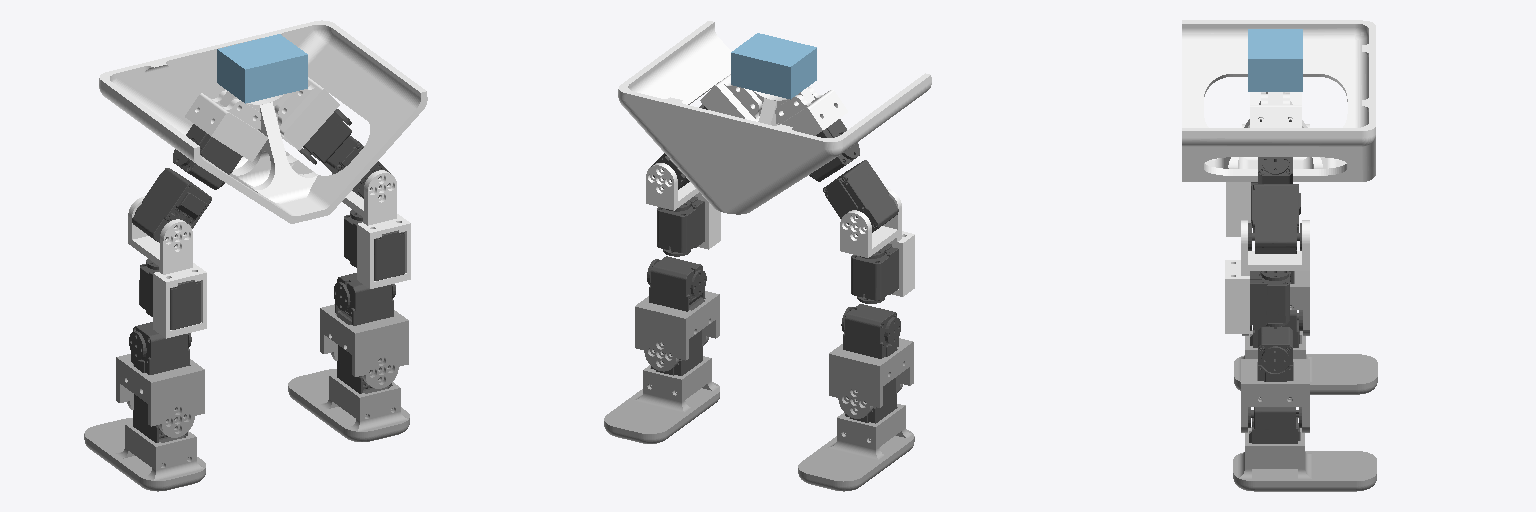
The robot description file, URDF, robot "SundayA1_URDF":
<?xml version="1.0" ?>
<!-- Generated using onshape-to-robot -->
<!-- Onshape https://cad.onshape.com/documents/e24e4ff371fec5e0fbb4a529/w/4a9fa4220522a6f1194ea957/e/8ed7dff1c3905da3bc629e00 -->
<robot name="SundayA1_URDF">
  <!-- Link body -->
  <link name="body">
    <inertial>
      <origin xyz="2.7095e-05 0.0575604 0.0537062" rpy="0 0 0"/>
      <mass value="0.460845"/>
      <inertia ixx="0.000633814" ixy="2.40779e-08" ixz="6.97121e-07" iyy="0.000946769" iyz="2.0973e-05" izz="0.000831012"/>
    </inertial>
    <!-- Part internal_weight_200g -->
    <visual>
      <origin xyz="-0.0244373 0.0729013 0.0940632" rpy="-3.14159 -1.57772e-30 -1.5708"/>
      <geometry>
        <mesh filename="assets/internal_weight_200g.stl"/>
      </geometry>
      <material name="internal_weight_200g_material">
        <color rgba="0.615686 0.811765 0.929412 1"/>
      </material>
    </visual>
    <collision>
      <origin xyz="-0.0244373 0.0729013 0.0940632" rpy="-3.14159 -1.57772e-30 -1.5708"/>
      <geometry>
        <mesh filename="assets/internal_weight_200g.stl"/>
      </geometry>
    </collision>
    <!-- Part sts3215 -->
    <visual>
      <origin xyz="0.153454 0.118361 0.123383" rpy="2.26893 -2.73872e-16 -1.5708"/>
      <geometry>
        <mesh filename="assets/sts3215.stl"/>
      </geometry>
      <material name="sts3215_material">
        <color rgba="0.4 0.4 0.4 1"/>
      </material>
    </visual>
    <collision>
      <origin xyz="0.153454 0.118361 0.123383" rpy="2.26893 -2.73872e-16 -1.5708"/>
      <geometry>
        <mesh filename="assets/sts3215.stl"/>
      </geometry>
    </collision>
    <!-- Part lower_torso -->
    <visual>
      <origin xyz="-7.97973e-17 0.0538513 0.134639" rpy="0 -6.30358e-16 -1.00525e-30"/>
      <geometry>
        <mesh filename="assets/lower_torso.stl"/>
      </geometry>
      <material name="lower_torso_material">
        <color rgba="1 1 1 1"/>
      </material>
    </visual>
    <collision>
      <origin xyz="-7.97973e-17 0.0538513 0.134639" rpy="0 -6.30358e-16 -1.00525e-30"/>
      <geometry>
        <mesh filename="assets/lower_torso.stl"/>
      </geometry>
    </collision>
    <!-- Part leg_foundation1029 -->
    <visual>
      <origin xyz="0.0279977 0.0538513 0.0442201" rpy="2.44346 1.93131e-16 1.5708"/>
      <geometry>
        <mesh filename="assets/leg_foundation1029.stl"/>
      </geometry>
      <material name="leg_foundation1029_material">
        <color rgba="1 1 1 1"/>
      </material>
    </visual>
    <collision>
      <origin xyz="0.0279977 0.0538513 0.0442201" rpy="2.44346 1.93131e-16 1.5708"/>
      <geometry>
        <mesh filename="assets/leg_foundation1029.stl"/>
      </geometry>
    </collision>
    <!-- Part sts3215_2 -->
    <visual>
      <origin xyz="-0.153294 -0.0106587 0.123574" rpy="2.26893 -2.22045e-16 1.5708"/>
      <geometry>
        <mesh filename="assets/sts3215.stl"/>
      </geometry>
      <material name="sts3215_2_material">
        <color rgba="0.4 0.4 0.4 1"/>
      </material>
    </visual>
    <collision>
      <origin xyz="-0.153294 -0.0106587 0.123574" rpy="2.26893 -2.22045e-16 1.5708"/>
      <geometry>
        <mesh filename="assets/sts3215.stl"/>
      </geometry>
    </collision>
    <!-- Part leg_foundation1029_2 -->
    <visual>
      <origin xyz="-0.0279977 0.0538513 0.0442201" rpy="2.44346 -1.0741e-16 -1.5708"/>
      <geometry>
        <mesh filename="assets/leg_foundation1029.stl"/>
      </geometry>
      <material name="leg_foundation1029_2_material">
        <color rgba="1 1 1 1"/>
      </material>
    </visual>
    <collision>
      <origin xyz="-0.0279977 0.0538513 0.0442201" rpy="2.44346 -1.0741e-16 -1.5708"/>
      <geometry>
        <mesh filename="assets/leg_foundation1029.stl"/>
      </geometry>
    </collision>
  </link>
  <!-- Link hip -->
  <link name="hip">
    <inertial>
      <origin xyz="0.00106942 -0.0359263 0.0188233" rpy="0 0 0"/>
      <mass value="0.0762186"/>
      <inertia ixx="2.6454e-05" ixy="2.66827e-07" ixz="2.14125e-09" iyy="1.91185e-05" iyz="-8.07308e-09" izz="3.06014e-05"/>
    </inertial>
    <!-- Part sts3215_3 -->
    <visual>
      <origin xyz="0.14699 -0.04 -0.045685" rpy="1.19441e-16 -1.5708 0"/>
      <geometry>
        <mesh filename="assets/sts3215.stl"/>
      </geometry>
      <material name="sts3215_3_material">
        <color rgba="0.4 0.4 0.4 1"/>
      </material>
    </visual>
    <collision>
      <origin xyz="0.14699 -0.04 -0.045685" rpy="1.19441e-16 -1.5708 0"/>
      <geometry>
        <mesh filename="assets/sts3215.stl"/>
      </geometry>
    </collision>
    <!-- Part hips1016 -->
    <visual>
      <origin xyz="0.016 -1.04083e-17 0.018825" rpy="-1.5708 -1.99996e-30 -1.03617e-29"/>
      <geometry>
        <mesh filename="assets/hips1016.stl"/>
      </geometry>
      <material name="hips1016_material">
        <color rgba="1 1 1 1"/>
      </material>
    </visual>
    <collision>
      <origin xyz="0.016 -1.04083e-17 0.018825" rpy="-1.5708 -1.99996e-30 -1.03617e-29"/>
      <geometry>
        <mesh filename="assets/hips1016.stl"/>
      </geometry>
    </collision>
  </link>
  <!-- Link low_hip -->
  <link name="low_hip">
    <inertial>
      <origin xyz="-0.0417421 -1.66285e-06 0.00770428" rpy="0 0 0"/>
      <mass value="0.0781435"/>
      <inertia ixx="2.36153e-05" ixy="1.72693e-09" ixz="-2.62202e-06" iyy="3.70364e-05" iyz="7.68937e-09" izz="2.44894e-05"/>
    </inertial>
    <!-- Part sts3215_4 -->
    <visual>
      <origin xyz="0.10099 -0.06451 0.008825" rpy="-1.5708 -1.39788e-14 1.5708"/>
      <geometry>
        <mesh filename="assets/sts3215.stl"/>
      </geometry>
      <material name="sts3215_4_material">
        <color rgba="0.4 0.4 0.4 1"/>
      </material>
    </visual>
    <collision>
      <origin xyz="0.10099 -0.06451 0.008825" rpy="-1.5708 -1.39788e-14 1.5708"/>
      <geometry>
        <mesh filename="assets/sts3215.stl"/>
      </geometry>
    </collision>
    <!-- Part thigh1016 -->
    <visual>
      <origin xyz="-0.03 -1.38778e-17 -0.031175" rpy="-3.14159 2.84947e-30 -9.86076e-32"/>
      <geometry>
        <mesh filename="assets/thigh1016.stl"/>
      </geometry>
      <material name="thigh1016_material">
        <color rgba="1 1 1 1"/>
      </material>
    </visual>
    <collision>
      <origin xyz="-0.03 -1.38778e-17 -0.031175" rpy="-3.14159 2.84947e-30 -9.86076e-32"/>
      <geometry>
        <mesh filename="assets/thigh1016.stl"/>
      </geometry>
    </collision>
  </link>
  <!-- Link knee_down -->
  <link name="knee_down">
    <inertial>
      <origin xyz="-0.0107349 3.17927e-18 -0.0263596" rpy="0 0 0"/>
      <mass value="0.0153484"/>
      <inertia ixx="1.08234e-05" ixy="1.20699e-34" ixz="7.91036e-07" iyy="8.20048e-06" iyz="1.16693e-35" izz="4.71676e-06"/>
    </inertial>
    <!-- Part knee_down -->
    <visual>
      <origin xyz="1.38778e-17 0 -0.038" rpy="1.5708 -5.05136e-30 1.4752e-29"/>
      <geometry>
        <mesh filename="assets/knee_down.stl"/>
      </geometry>
      <material name="knee_down_material">
        <color rgba="1 1 1 1"/>
      </material>
    </visual>
    <collision>
      <origin xyz="1.38778e-17 0 -0.038" rpy="1.5708 -5.05136e-30 1.4752e-29"/>
      <geometry>
        <mesh filename="assets/knee_down.stl"/>
      </geometry>
    </collision>
  </link>
  <!-- Link knee -->
  <link name="knee">
    <inertial>
      <origin xyz="-1.70178e-06 0.0140643 0.0179813" rpy="0 0 0"/>
      <mass value="0.0763559"/>
      <inertia ixx="3.08631e-05" ixy="-8.07186e-09" ixz="-2.14134e-09" iyy="2.01146e-05" iyz="-2.62273e-07" izz="2.72821e-05"/>
    </inertial>
    <!-- Part sts3215_5 -->
    <visual>
      <origin xyz="-0.06451 0.01 -0.12794" rpy="2.21867e-31 1.15322e-29 1.87448e-31"/>
      <geometry>
        <mesh filename="assets/sts3215.stl"/>
      </geometry>
      <material name="sts3215_5_material">
        <color rgba="0.4 0.4 0.4 1"/>
      </material>
    </visual>
    <collision>
      <origin xyz="-0.06451 0.01 -0.12794" rpy="2.21867e-31 1.15322e-29 1.87448e-31"/>
      <geometry>
        <mesh filename="assets/sts3215.stl"/>
      </geometry>
    </collision>
    <!-- Part ankle0116 -->
    <visual>
      <origin xyz="-1.38778e-17 0.026159 0.01905" rpy="1.5708 1.15322e-29 1.87448e-31"/>
      <geometry>
        <mesh filename="assets/ankle0116.stl"/>
      </geometry>
      <material name="ankle0116_material">
        <color rgba="0.717647 0.717647 0.717647 1"/>
      </material>
    </visual>
    <collision>
      <origin xyz="-1.38778e-17 0.026159 0.01905" rpy="1.5708 1.15322e-29 1.87448e-31"/>
      <geometry>
        <mesh filename="assets/ankle0116.stl"/>
      </geometry>
    </collision>
  </link>
  <!-- Link sts3215 -->
  <link name="sts3215">
    <inertial>
      <origin xyz="-1.36047e-06 -0.0191896 -0.0135513" rpy="0 0 0"/>
      <mass value="0.0884859"/>
      <inertia ixx="6.29717e-05" ixy="8.86629e-09" ixz="1.79954e-09" iyy="4.02068e-05" iyz="9.70573e-06" izz="3.99134e-05"/>
    </inertial>
    <!-- Part sts3215_6 -->
    <visual>
      <origin xyz="-0.06451 -0.01 0.12794" rpy="-3.14159 6.47828e-30 3.80362e-30"/>
      <geometry>
        <mesh filename="assets/sts3215.stl"/>
      </geometry>
      <material name="sts3215_6_material">
        <color rgba="0.4 0.4 0.4 1"/>
      </material>
    </visual>
    <collision>
      <origin xyz="-0.06451 -0.01 0.12794" rpy="-3.14159 6.47828e-30 3.80362e-30"/>
      <geometry>
        <mesh filename="assets/sts3215.stl"/>
      </geometry>
    </collision>
    <!-- Part foot0116 -->
    <visual>
      <origin xyz="0 -0.05 -0.00305001" rpy="1.5708 -1.5708 0"/>
      <geometry>
        <mesh filename="assets/foot0116.stl"/>
      </geometry>
      <material name="foot0116_material">
        <color rgba="0.717647 0.717647 0.717647 1"/>
      </material>
    </visual>
    <collision>
      <origin xyz="0 -0.05 -0.00305001" rpy="1.5708 -1.5708 0"/>
      <geometry>
        <mesh filename="assets/foot0116.stl"/>
      </geometry>
    </collision>
  </link>
  <!-- Joint from knee to sts3215 -->
  <joint name="right_ankle" type="revolute">
    <origin xyz="0.018825 0.05 0.01905" rpy="-3.14159 -1.5708 0"/>
    <parent link="knee"/>
    <child link="sts3215"/>
    <axis xyz="0 0 1"/>
    <limit effort="1.9" velocity="5" lower="-1.6" upper="1.6"/>
    <joint_properties friction="0.052"/>
  </joint>
  <!-- Joint from knee_down to knee -->
  <joint name="right_knee" type="revolute">
    <origin xyz="4.16334e-17 0.019 -0.059" rpy="-1.5708 -7.00545e-14 -3.14159"/>
    <parent link="knee_down"/>
    <child link="knee"/>
    <axis xyz="0 0 1"/>
    <limit effort="1.9" velocity="5" lower="-1.23" upper="1.6"/>
    <joint_properties friction="0.052"/>
  </joint>
  <!-- Joint from low_hip to knee_down -->
  <joint name="right_hip_yaw" type="revolute">
    <origin xyz="-0.02695 -6.80012e-16 0.018825" rpy="-7.77156e-16 1.5708 0"/>
    <parent link="low_hip"/>
    <child link="knee_down"/>
    <axis xyz="0 0 1"/>
    <limit effort="1.9" velocity="5" lower="-0.785" upper="0.785"/>
    <joint_properties friction="0.052"/>
  </joint>
  <!-- Joint from hip to low_hip -->
  <joint name="right_hip_pitch" type="revolute">
    <origin xyz="0.01905 -0.05 0.018825" rpy="-1.5708 0.698132 1.5708"/>
    <parent link="hip"/>
    <child link="low_hip"/>
    <axis xyz="0 0 1"/>
    <limit effort="1.9" velocity="5" lower="-1.6" upper="1.6"/>
    <joint_properties friction="0.052"/>
  </joint>
  <!-- Joint from body to hip -->
  <joint name="right_hip_roll" type="revolute">
    <origin xyz="0.0618745 0.0538513 0.0334838" rpy="2.26893 -7.32543e-14 -1.5708"/>
    <parent link="body"/>
    <child link="hip"/>
    <axis xyz="0 0 1"/>
    <limit effort="1.9" velocity="5" lower="-1" upper="1"/>
    <joint_properties friction="0.052"/>
  </joint>
  <!-- Link hip_2 -->
  <link name="hip_2">
    <inertial>
      <origin xyz="0.00106942 -0.0359263 0.0188233" rpy="0 0 0"/>
      <mass value="0.0762186"/>
      <inertia ixx="2.6454e-05" ixy="2.66827e-07" ixz="2.14125e-09" iyy="1.91185e-05" iyz="-8.07308e-09" izz="3.06014e-05"/>
    </inertial>
    <!-- Part sts3215_7 -->
    <visual>
      <origin xyz="0.14699 -0.04 -0.045685" rpy="-8.55709e-17 -1.5708 0"/>
      <geometry>
        <mesh filename="assets/sts3215.stl"/>
      </geometry>
      <material name="sts3215_7_material">
        <color rgba="0.4 0.4 0.4 1"/>
      </material>
    </visual>
    <collision>
      <origin xyz="0.14699 -0.04 -0.045685" rpy="-8.55709e-17 -1.5708 0"/>
      <geometry>
        <mesh filename="assets/sts3215.stl"/>
      </geometry>
    </collision>
    <!-- Part hips1016_2 -->
    <visual>
      <origin xyz="0.016 -6.93889e-18 0.018825" rpy="-1.5708 3.74239e-32 4.24935e-31"/>
      <geometry>
        <mesh filename="assets/hips1016.stl"/>
      </geometry>
      <material name="hips1016_2_material">
        <color rgba="1 1 1 1"/>
      </material>
    </visual>
    <collision>
      <origin xyz="0.016 -6.93889e-18 0.018825" rpy="-1.5708 3.74239e-32 4.24935e-31"/>
      <geometry>
        <mesh filename="assets/hips1016.stl"/>
      </geometry>
    </collision>
  </link>
  <!-- Link low_hip_2 -->
  <link name="low_hip_2">
    <inertial>
      <origin xyz="-0.0417421 -1.66285e-06 0.00770428" rpy="0 0 0"/>
      <mass value="0.0781435"/>
      <inertia ixx="2.36153e-05" ixy="1.72693e-09" ixz="-2.62202e-06" iyy="3.70364e-05" iyz="7.68937e-09" izz="2.44894e-05"/>
    </inertial>
    <!-- Part sts3215_8 -->
    <visual>
      <origin xyz="0.10099 -0.06451 0.008825" rpy="-1.5708 2.53371e-14 1.5708"/>
      <geometry>
        <mesh filename="assets/sts3215.stl"/>
      </geometry>
      <material name="sts3215_8_material">
        <color rgba="0.4 0.4 0.4 1"/>
      </material>
    </visual>
    <collision>
      <origin xyz="0.10099 -0.06451 0.008825" rpy="-1.5708 2.53371e-14 1.5708"/>
      <geometry>
        <mesh filename="assets/sts3215.stl"/>
      </geometry>
    </collision>
    <!-- Part thigh1016_2 -->
    <visual>
      <origin xyz="-0.03 2.77556e-17 -0.031175" rpy="-3.14159 -6.87259e-31 1.2326e-32"/>
      <geometry>
        <mesh filename="assets/thigh1016.stl"/>
      </geometry>
      <material name="thigh1016_2_material">
        <color rgba="1 1 1 1"/>
      </material>
    </visual>
    <collision>
      <origin xyz="-0.03 2.77556e-17 -0.031175" rpy="-3.14159 -6.87259e-31 1.2326e-32"/>
      <geometry>
        <mesh filename="assets/thigh1016.stl"/>
      </geometry>
    </collision>
  </link>
  <!-- Link knee_down_2 -->
  <link name="knee_down_2">
    <inertial>
      <origin xyz="-0.0107349 3.17927e-18 -0.0263596" rpy="0 0 0"/>
      <mass value="0.0153484"/>
      <inertia ixx="1.08234e-05" ixy="-4.277e-35" ixz="7.91036e-07" iyy="8.20048e-06" iyz="-2.00455e-36" izz="4.71676e-06"/>
    </inertial>
    <!-- Part knee_down_2 -->
    <visual>
      <origin xyz="0 0 -0.038" rpy="1.5708 -2.22756e-31 -1.83754e-30"/>
      <geometry>
        <mesh filename="assets/knee_down.stl"/>
      </geometry>
      <material name="knee_down_2_material">
        <color rgba="1 1 1 1"/>
      </material>
    </visual>
    <collision>
      <origin xyz="0 0 -0.038" rpy="1.5708 -2.22756e-31 -1.83754e-30"/>
      <geometry>
        <mesh filename="assets/knee_down.stl"/>
      </geometry>
    </collision>
  </link>
  <!-- Link knee_2 -->
  <link name="knee_2">
    <inertial>
      <origin xyz="-1.70178e-06 -0.0140643 -0.0179813" rpy="0 0 0"/>
      <mass value="0.0763559"/>
      <inertia ixx="3.08631e-05" ixy="8.07186e-09" ixz="2.14134e-09" iyy="2.01146e-05" iyz="-2.62273e-07" izz="2.72821e-05"/>
    </inertial>
    <!-- Part sts3215_9 -->
    <visual>
      <origin xyz="-0.06451 -0.01 0.12794" rpy="-3.14159 1.25041e-31 6.41779e-30"/>
      <geometry>
        <mesh filename="assets/sts3215.stl"/>
      </geometry>
      <material name="sts3215_9_material">
        <color rgba="0.4 0.4 0.4 1"/>
      </material>
    </visual>
    <collision>
      <origin xyz="-0.06451 -0.01 0.12794" rpy="-3.14159 1.25041e-31 6.41779e-30"/>
      <geometry>
        <mesh filename="assets/sts3215.stl"/>
      </geometry>
    </collision>
    <!-- Part ankle0116_2 -->
    <visual>
      <origin xyz="2.77556e-17 -0.026159 -0.01905" rpy="-1.5708 -1.24489e-30 1.06904e-31"/>
      <geometry>
        <mesh filename="assets/ankle0116.stl"/>
      </geometry>
      <material name="ankle0116_2_material">
        <color rgba="0.717647 0.717647 0.717647 1"/>
      </material>
    </visual>
    <collision>
      <origin xyz="2.77556e-17 -0.026159 -0.01905" rpy="-1.5708 -1.24489e-30 1.06904e-31"/>
      <geometry>
        <mesh filename="assets/ankle0116.stl"/>
      </geometry>
    </collision>
  </link>
  <!-- Link sts3215_2 -->
  <link name="sts3215_2">
    <inertial>
      <origin xyz="-1.36047e-06 -0.0191896 -0.0135513" rpy="0 0 0"/>
      <mass value="0.0884859"/>
      <inertia ixx="6.29717e-05" ixy="8.86629e-09" ixz="1.79954e-09" iyy="4.02068e-05" iyz="9.70573e-06" izz="3.99134e-05"/>
    </inertial>
    <!-- Part sts3215_10 -->
    <visual>
      <origin xyz="-0.06451 -0.01 0.12794" rpy="3.14159 -8.6105e-31 0"/>
      <geometry>
        <mesh filename="assets/sts3215.stl"/>
      </geometry>
      <material name="sts3215_10_material">
        <color rgba="0.4 0.4 0.4 1"/>
      </material>
    </visual>
    <collision>
      <origin xyz="-0.06451 -0.01 0.12794" rpy="3.14159 -8.6105e-31 0"/>
      <geometry>
        <mesh filename="assets/sts3215.stl"/>
      </geometry>
    </collision>
    <!-- Part foot0116_2 -->
    <visual>
      <origin xyz="-4.71845e-16 -0.05 -0.00305001" rpy="1.5708 -1.5708 0"/>
      <geometry>
        <mesh filename="assets/foot0116.stl"/>
      </geometry>
      <material name="foot0116_2_material">
        <color rgba="0.717647 0.717647 0.717647 1"/>
      </material>
    </visual>
    <collision>
      <origin xyz="-4.71845e-16 -0.05 -0.00305001" rpy="1.5708 -1.5708 0"/>
      <geometry>
        <mesh filename="assets/foot0116.stl"/>
      </geometry>
    </collision>
  </link>
  <!-- Joint from knee_2 to sts3215_2 -->
  <joint name="left_ankle" type="revolute">
    <origin xyz="-0.018825 -0.05 -0.01905" rpy="1.06904e-31 -1.5708 0"/>
    <parent link="knee_2"/>
    <child link="sts3215_2"/>
    <axis xyz="0 0 1"/>
    <limit effort="1.9" velocity="5" lower="-1.6" upper="1.6"/>
    <joint_properties friction="0.052"/>
  </joint>
  <!-- Joint from knee_down_2 to knee_2 -->
  <joint name="left_knee" type="revolute">
    <origin xyz="6.93889e-18 -0.019 -0.059" rpy="1.5708 6.03027e-14 -3.00469e-15"/>
    <parent link="knee_down_2"/>
    <child link="knee_2"/>
    <axis xyz="0 0 1"/>
    <limit effort="1.9" velocity="5" lower="-1.23" upper="1.6"/>
    <joint_properties friction="0.052"/>
  </joint>
  <!-- Joint from low_hip_2 to knee_down_2 -->
  <joint name="left_hip_yaw" type="revolute">
    <origin xyz="-0.02695 -5.41234e-16 0.018825" rpy="2.71171e-31 1.5708 0"/>
    <parent link="low_hip_2"/>
    <child link="knee_down_2"/>
    <axis xyz="0 0 1"/>
    <limit effort="1.9" velocity="5" lower="-0.785" upper="0.785"/>
    <joint_properties friction="0.052"/>
  </joint>
  <!-- Joint from hip_2 to low_hip_2 -->
  <joint name="left_hip_pitch" type="revolute">
    <origin xyz="-0.0186 -0.05 0.018825" rpy="1.5708 0.698132 1.5708"/>
    <parent link="hip_2"/>
    <child link="low_hip_2"/>
    <axis xyz="0 0 1"/>
    <limit effort="1.9" velocity="5" lower="-1.6" upper="1.6"/>
    <joint_properties friction="0.052"/>
  </joint>
  <!-- Joint from body to hip_2 -->
  <joint name="left_hip_roll" type="revolute">
    <origin xyz="-0.0617138 0.0538513 0.0336753" rpy="2.26893 3.60356e-15 1.5708"/>
    <parent link="body"/>
    <child link="hip_2"/>
    <axis xyz="0 0 1"/>
    <limit effort="1.9" velocity="5" lower="-1" upper="1"/>
    <joint_properties friction="0.052"/>
  </joint>
</robot>

--- What the picture shows (computed from the rendered views, not written in the file) ---
3 views of the same robot in one strip: view 1: azimuth 30°, elevation 25°; view 2: azimuth 150°, elevation 25°; view 3: azimuth 270°, elevation 25° (orthographic).
Robot: SundayA1_URDF — 11 links, 10 joints (10 revolute); root link body; default pose: all joints at 0.
Visible links, largest first — view 1: body, knee, knee_2, low_hip_2, sts3215_2, sts3215, low_hip, hip_2, hip; view 2: body, knee, knee_2, sts3215, sts3215_2, low_hip_2, low_hip, hip_2; view 3: body, sts3215, low_hip, knee, sts3215_2, hip, low_hip_2, knee_2.
Link boxes in pixels (<box>): body: <box>99,20,427,223</box>; knee: <box>320,273,408,388</box>; knee_2: <box>116,322,204,437</box>; low_hip_2: <box>128,196,206,338</box>; sts3215_2: <box>84,394,205,491</box>; sts3215: <box>288,345,409,441</box>; low_hip: <box>332,170,410,288</box>; hip_2: <box>132,168,211,246</box>; hip: <box>324,136,390,198</box>; body: <box>618,21,931,214</box>; knee: <box>635,256,719,371</box>; knee_2: <box>829,304,913,418</box>; sts3215: <box>604,330,719,443</box>; sts3215_2: <box>798,378,914,491</box>; low_hip_2: <box>840,188,914,303</box>; low_hip: <box>646,163,720,256</box>; hip_2: <box>823,160,898,235</box>; body: <box>1182,20,1375,183</box>; sts3215: <box>1233,407,1376,491</box>; low_hip: <box>1225,220,1309,333</box>; knee: <box>1241,326,1309,432</box>; sts3215_2: <box>1234,310,1377,394</box>; hip: <box>1248,184,1301,253</box>; low_hip_2: <box>1226,124,1309,236</box>; knee_2: <box>1242,271,1309,335</box>.
Bounding box of the posed robot: 0.2089 × 0.136 × 0.2969 m (x, y, z).
20 mesh visuals loaded from 9 distinct referenced files (7 binary STL); not drawn: 4 (reference not matched to a file when rendering).
